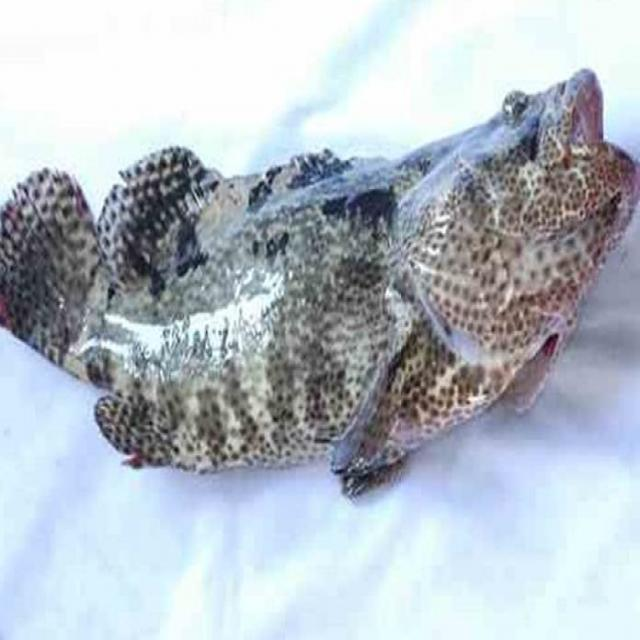grouper: (0, 60, 640, 507)
